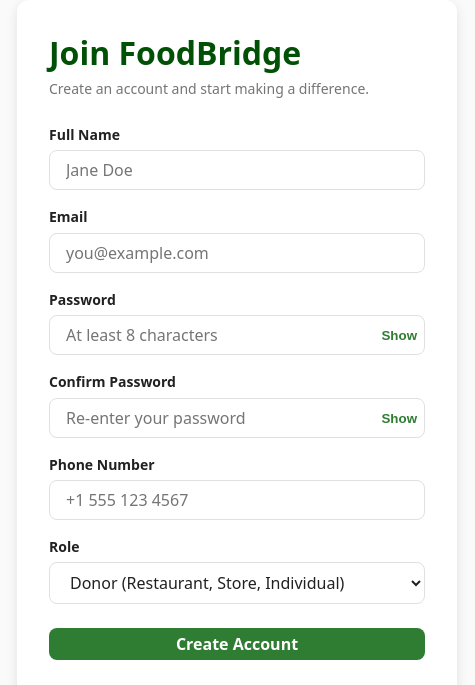
Test case: registration validation › requires phone number and matching password confirmation
Type "Aarohi Sharma" into the field labelled "Full Name". click: (237, 170)
box: left=49, top=150, right=425, bottom=190
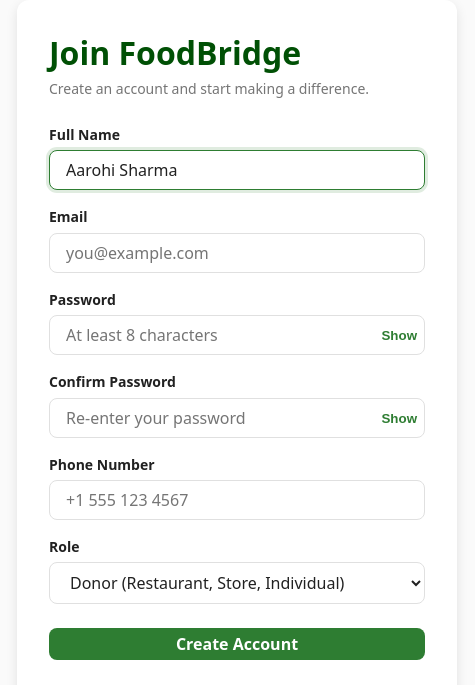
Type "aarohi@example.com" into the field labelled "Email". click: (237, 253)
box: left=49, top=233, right=425, bottom=273
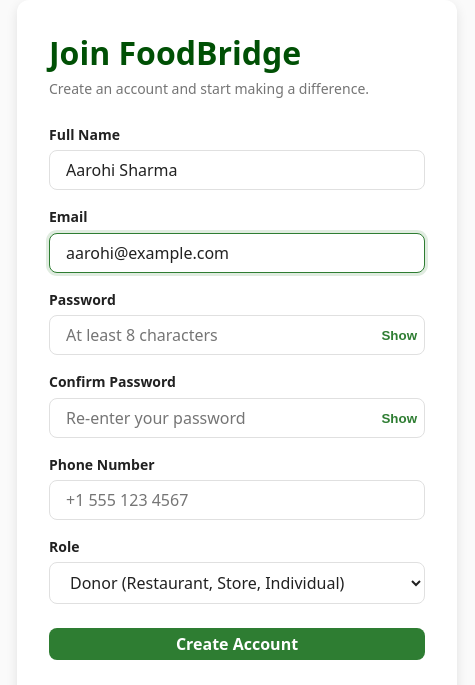
Type "Password1" into the password field labelled "Password". click: (237, 335)
box: left=49, top=315, right=425, bottom=355
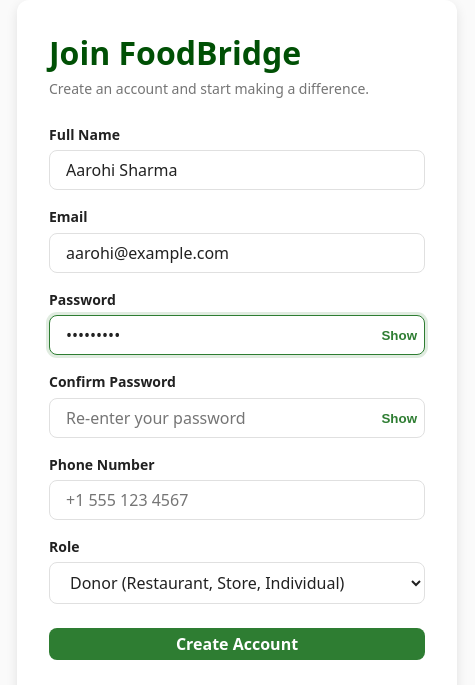
Type "DifferentPassword1" into the password field labelled "Confirm Password". click: (237, 418)
box: left=49, top=398, right=425, bottom=438
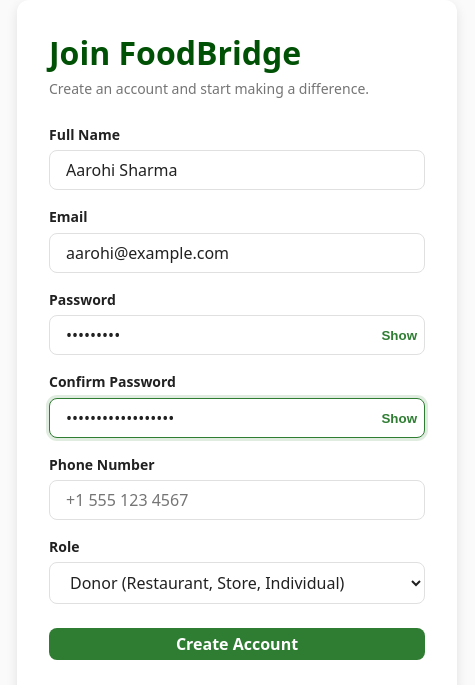
Click the button "Create Account". click: click(237, 644)
box: left=49, top=628, right=425, bottom=660
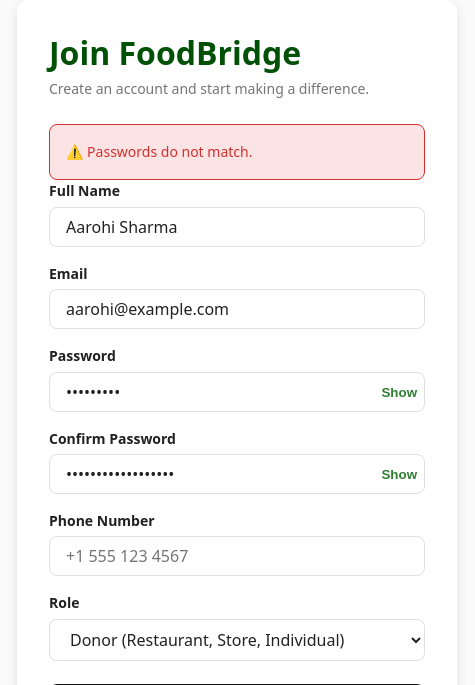
expect the message shows "Passwords do not match": met, box left=87, top=142, right=252, bottom=161
